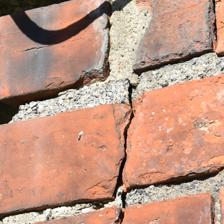Crack: (51, 37, 102, 187)
